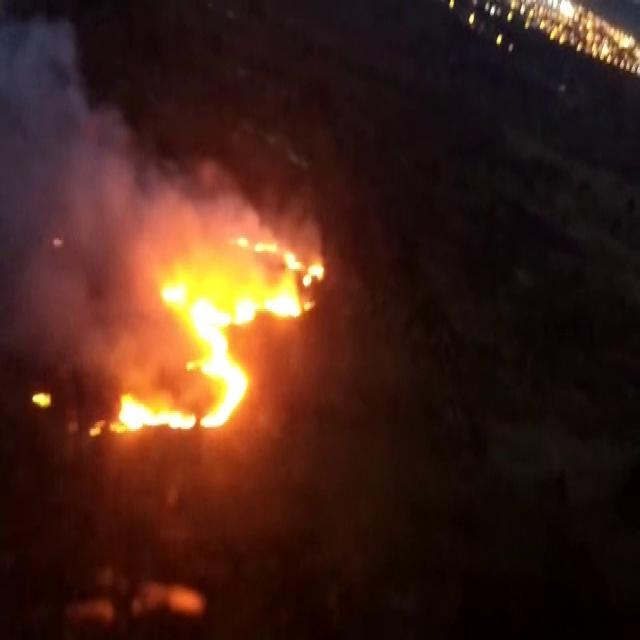Fire: (84, 234, 328, 438)
Smoke: (6, 20, 315, 233), (1, 0, 173, 382)
